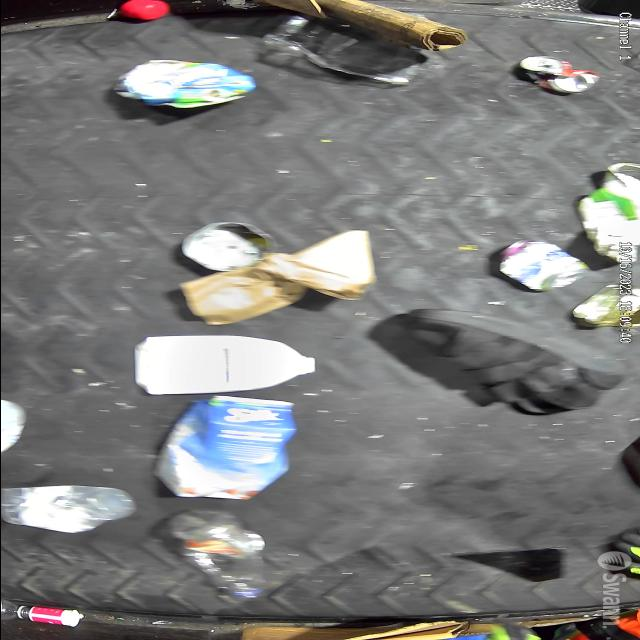can: (182, 392, 320, 489), (497, 239, 581, 293), (520, 58, 608, 94)
milk_jug: (131, 337, 317, 396)
